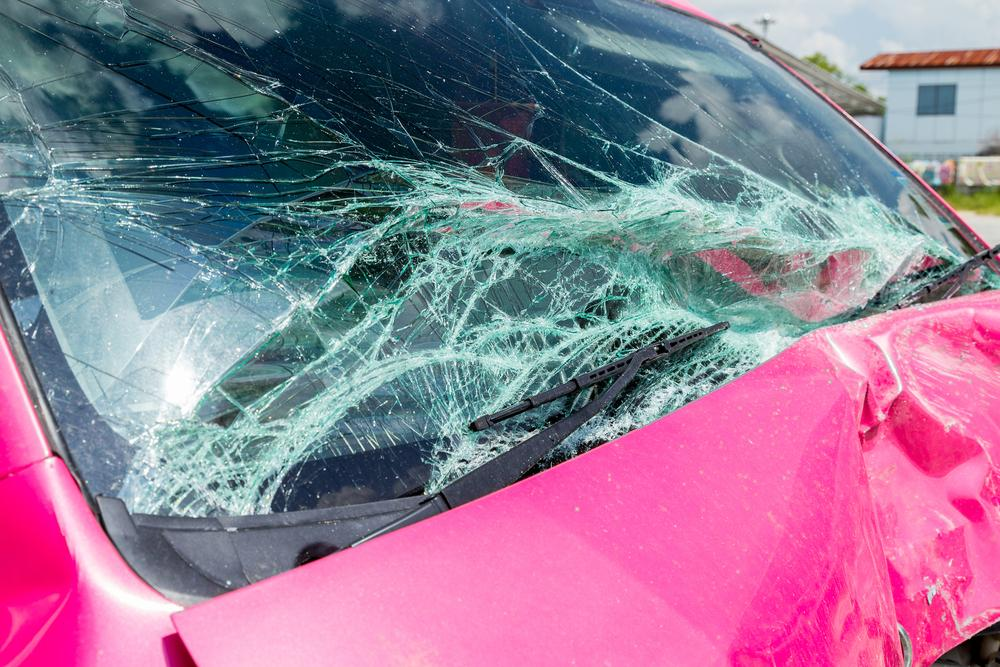dent: (833, 313, 1000, 661)
glass shatter: (0, 0, 1000, 520)
